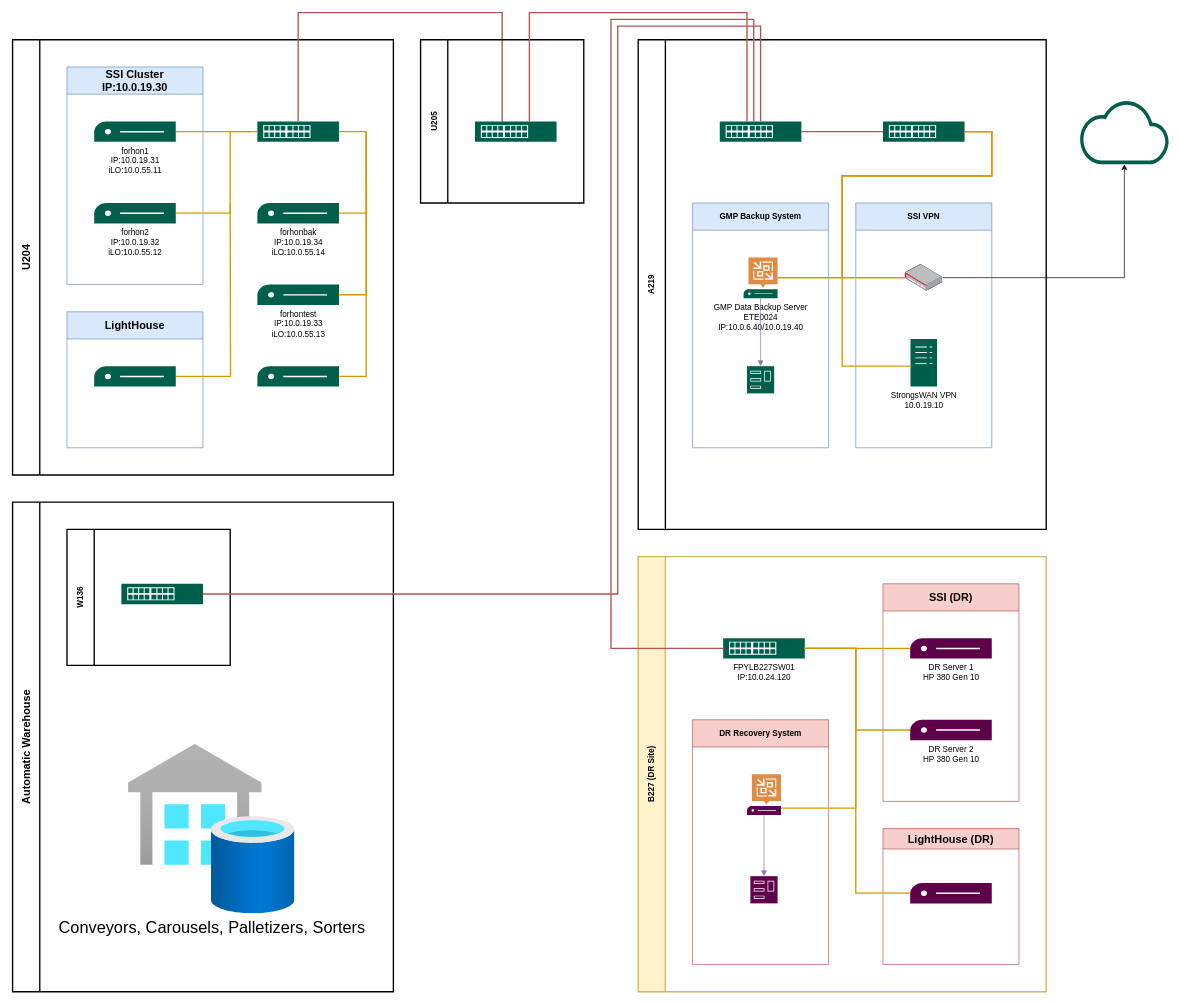
Some shapes in this 1180 by 1004 pixel diagram are drawn without their labels. Each missing label, with the centre of its shape:
"Cisco 1841" goes at point 923,277.
"DR Server 3 HP 380 Gen 10" goes at point 950,893.
"DR Tape Library" goes at point 763,889.
"DR Veeam Server" goes at point 764,794.
"ETC0005 IP:10.0.24.254" goes at point 760,131.
"ETC0008 IP:10.0.24.111" goes at point 923,131.
"forhonlh IP:10.0.19.35 iLO:10.0.55.15" goes at point 134,376.
"FPYLU204SW01 IP:10.0.24.9" goes at point 298,131.
"FPYLU205SW01 IP:10.0.24.250" goes at point 515,131.
"FPYLW136SW01 IP:10.0.24.119" goes at point 162,593.
"GMP Tape Library 10.0.6.42" goes at point 760,379.
"HKPWNTPSRV001 IP:10.0.19.5" goes at point 298,376.
